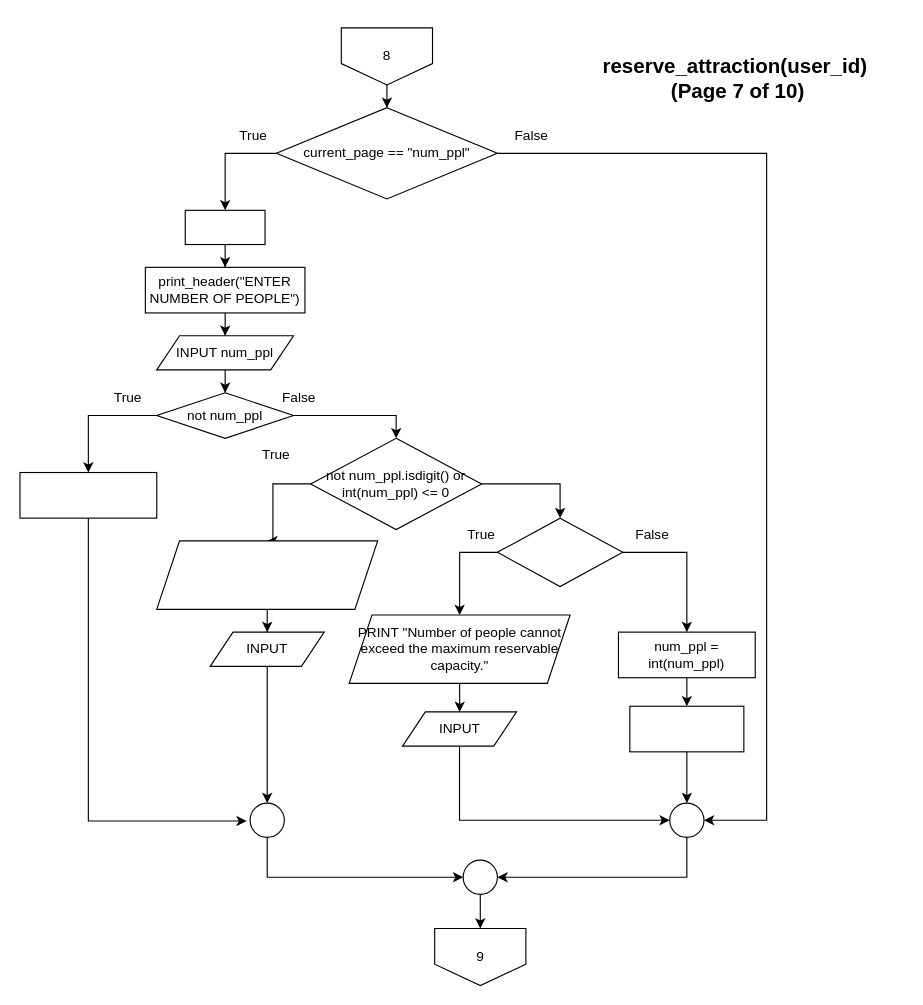
Image size: 923x1005. Some labels were removed from this diagram. The centre of each missing label's shape, as x and y in pixels:
clear(): pixel 224 227
current_page = "attractions_selection": pixel 88 494
current_page = "date": pixel 686 728
int(num_ppl) > 10: pixel 559 552
PRINT "Number of people must be an integer and not less than or equal to zero.": pixel 267 574
